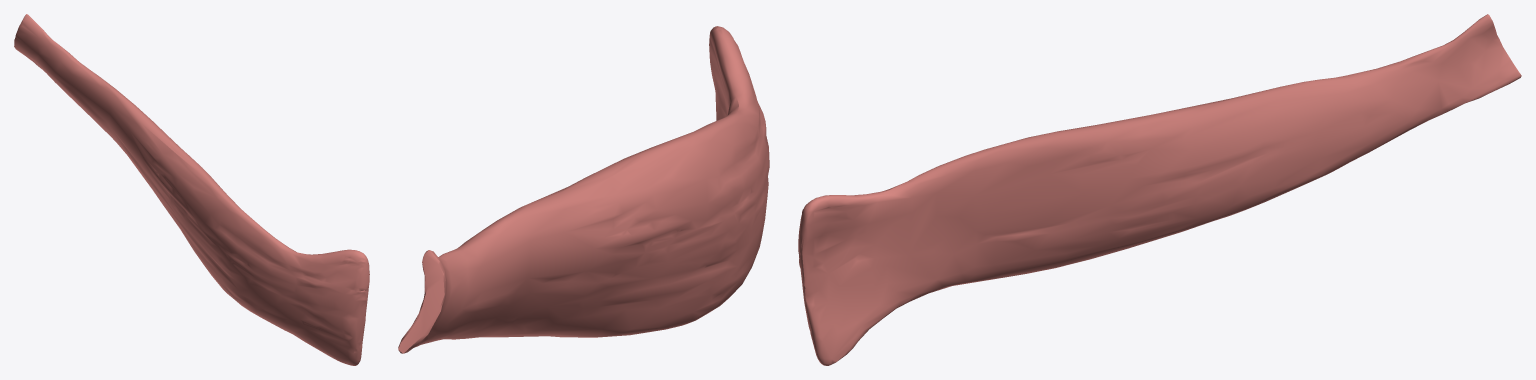
Rendered from fma49057_fj1308.glb.
3 renders of one model, left to right at view 1: azimuth 30°, elevation 25°; view 2: azimuth 150°, elevation 25°; view 3: azimuth 270°, elevation 25°, orthographic. The views are drawn at different scales.
Visible parts, largest first — view 1: FMA49057_FJ1308; view 2: FMA49057_FJ1308; view 3: FMA49057_FJ1308.
Part boxes in pixels (bbox=[...]): FMA49057_FJ1308: bbox=[14, 14, 369, 365]; FMA49057_FJ1308: bbox=[398, 26, 769, 353]; FMA49057_FJ1308: bbox=[798, 14, 1521, 365].
Bounding box in the file's own units: 0.01 × 0.0176 × 0.0402.
